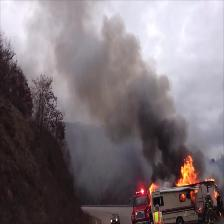fire: (176, 156, 216, 206), (146, 180, 164, 222)
smoke: (28, 4, 193, 145)
